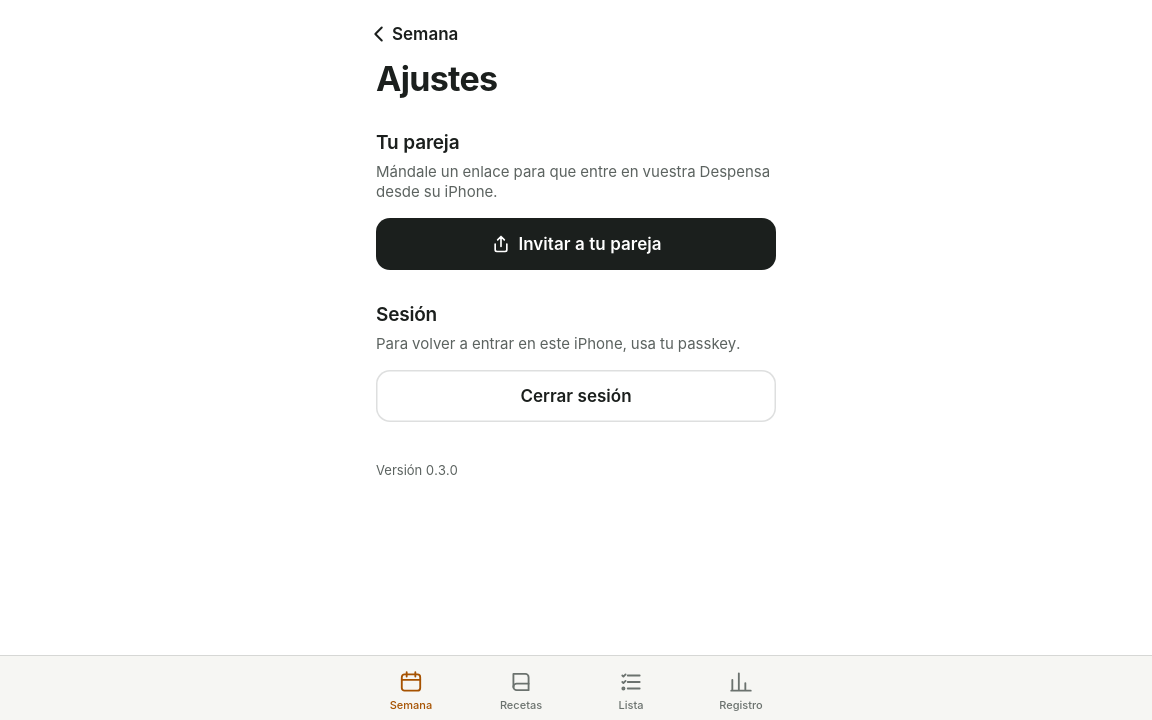
Test: Ajustes › sin red no cierra la sesión y lo dice
The image size is (1152, 720).
Click the button "Cerrar sesión" at (576,396), box left=376, top=370, right=776, bottom=422
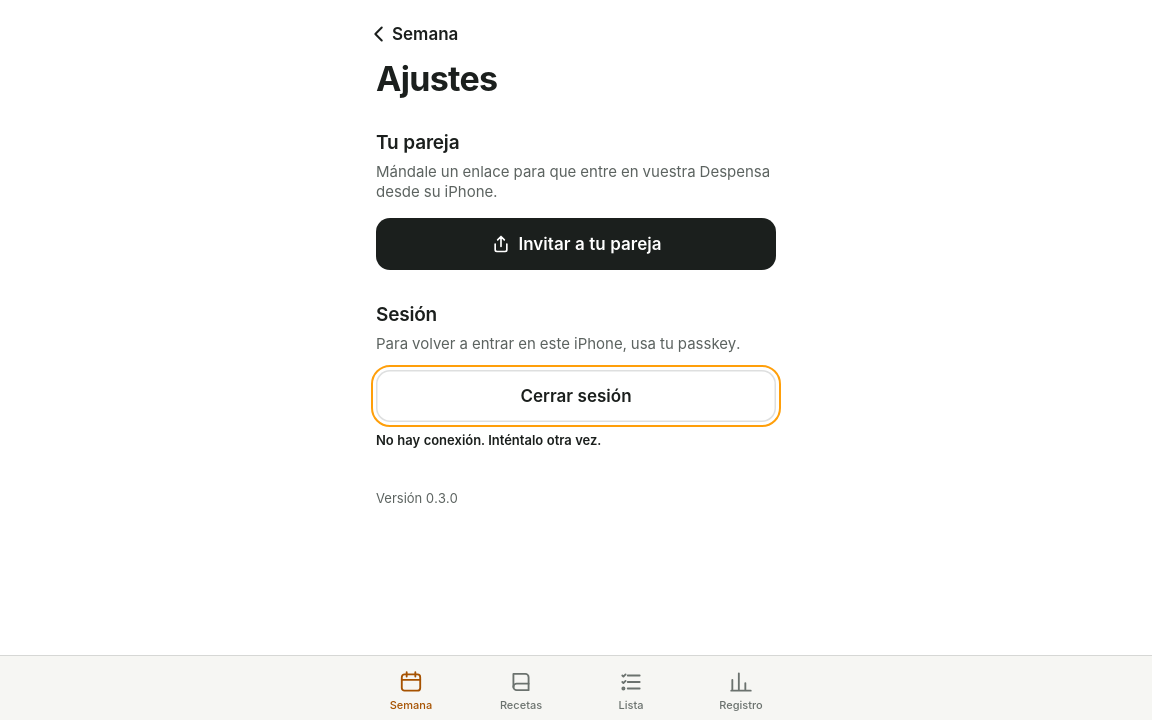
Now the message reads "No hay conexión. Inténtalo otra vez.", box left=376, top=432, right=601, bottom=448
